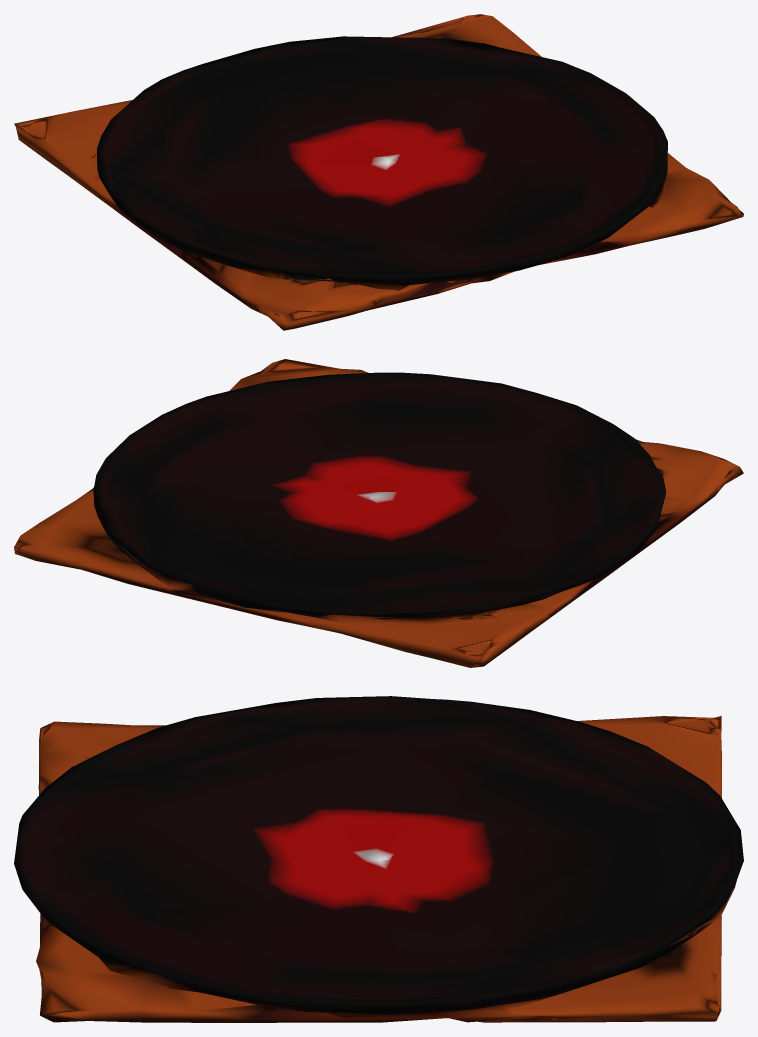
The model's file is gen3d-vinyl-record-lod0.glb.
3 renders of one model, top to bottom at view 1: azimuth 30°, elevation 25°; view 2: azimuth 150°, elevation 25°; view 3: azimuth 270°, elevation 25°, orthographic. The views are drawn at different scales.
Visible parts, largest first — view 1: part_0; view 2: part_0; view 3: part_0.
Boxes of the visible parts, x1,y1,x2,y2 form: part_0: (14,14,743,330); part_0: (14,359,743,667); part_0: (14,696,743,1022).
Bounding box in the file's own units: 22.59 × 0.9918 × 22.51.
